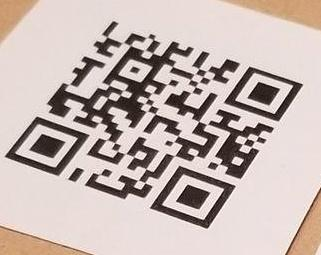qrcode: (6, 21, 305, 230)
